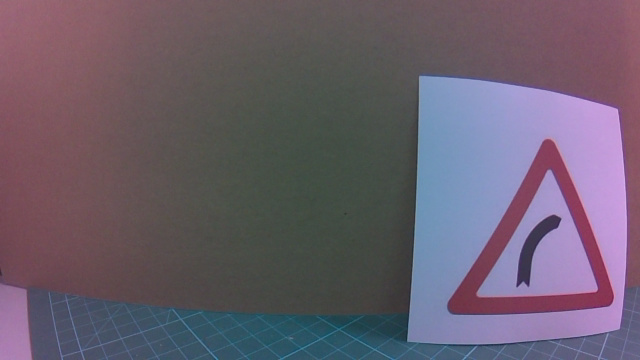right: (411, 150, 611, 326)
